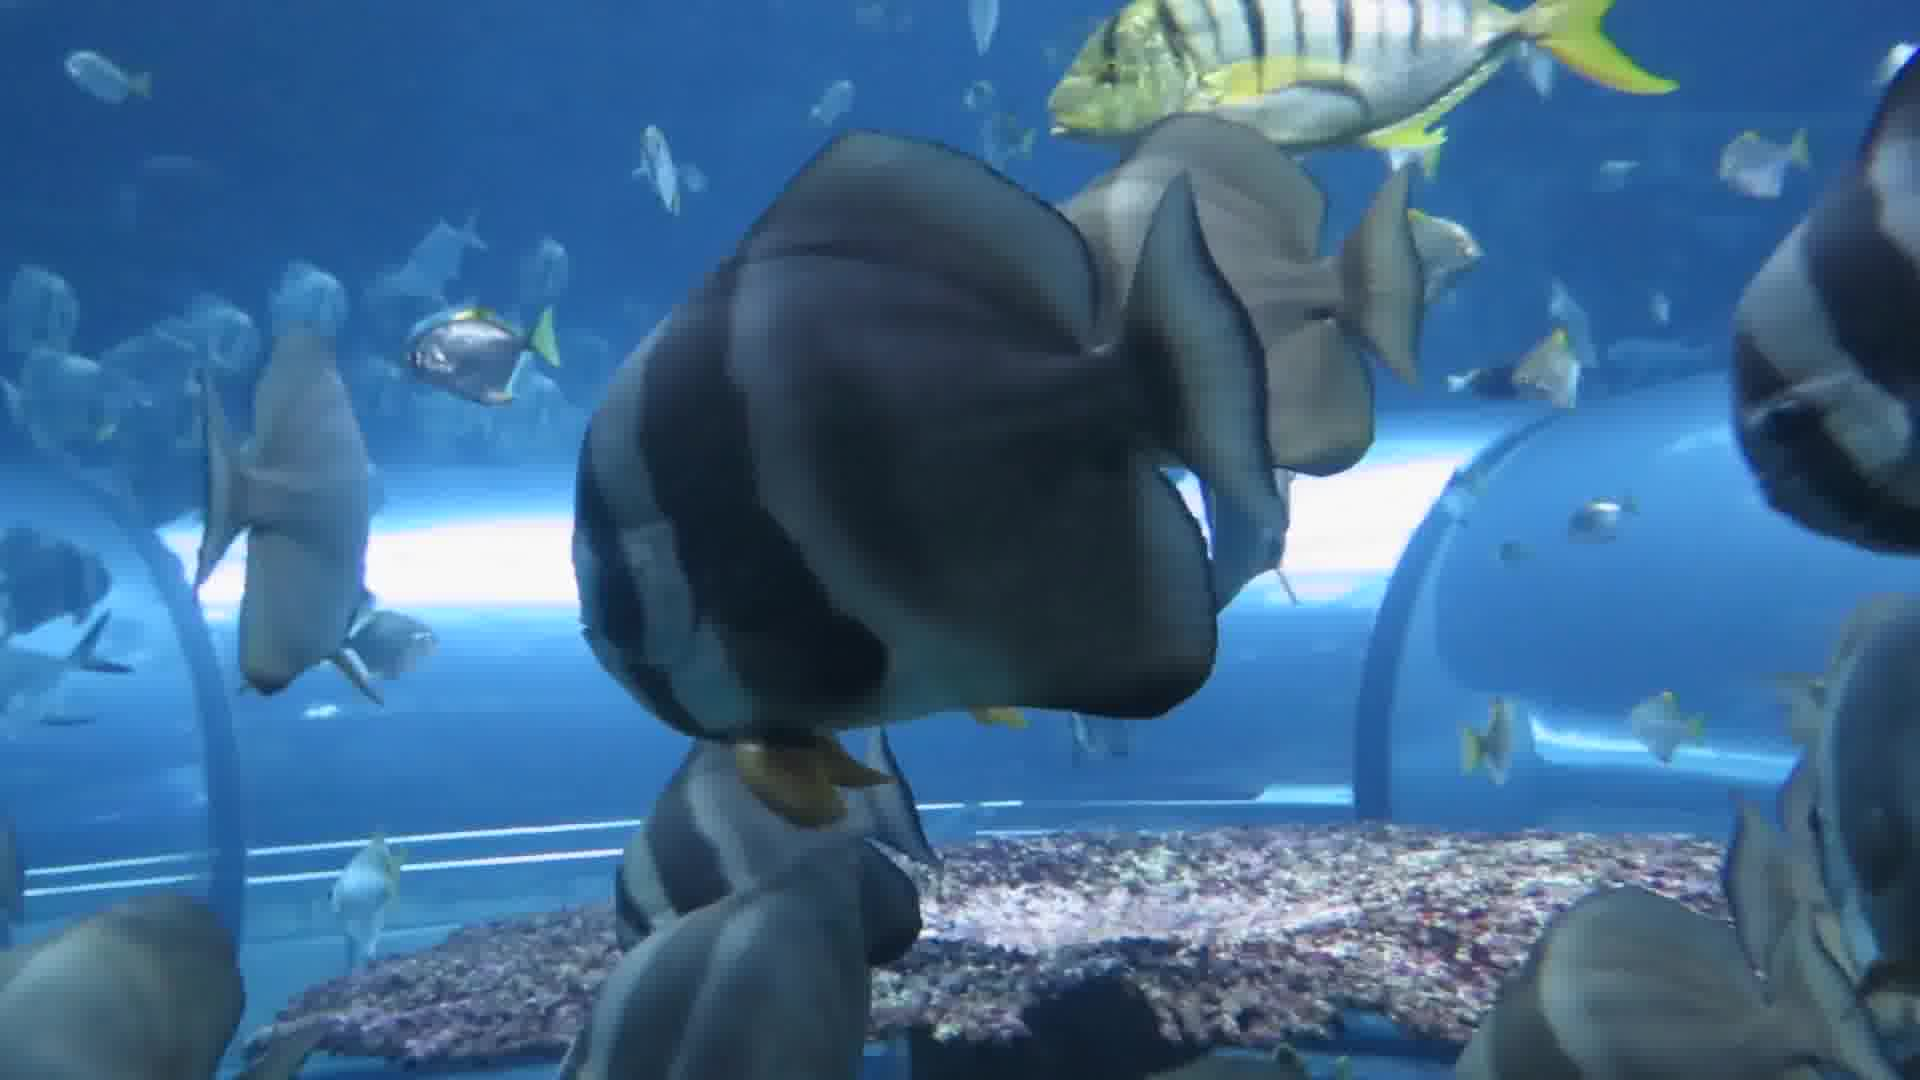Platax teira: (539, 92, 1302, 762)
